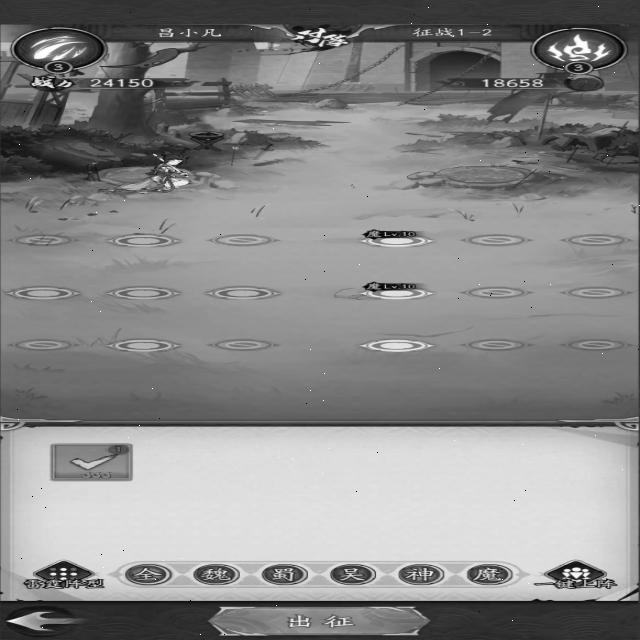navigation-myHeroes: (44, 441, 143, 484)
operation-back: (2, 606, 96, 635)
operation-confirm: (205, 606, 429, 636)
operation-deployment: (21, 558, 106, 592)
operation-oneKeyDeployment: (525, 558, 619, 592), (122, 562, 175, 586), (192, 564, 241, 586), (396, 564, 445, 586), (259, 564, 309, 585), (464, 564, 513, 585), (329, 564, 376, 585)
